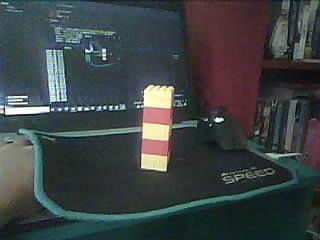lego: (141, 85, 175, 172)
